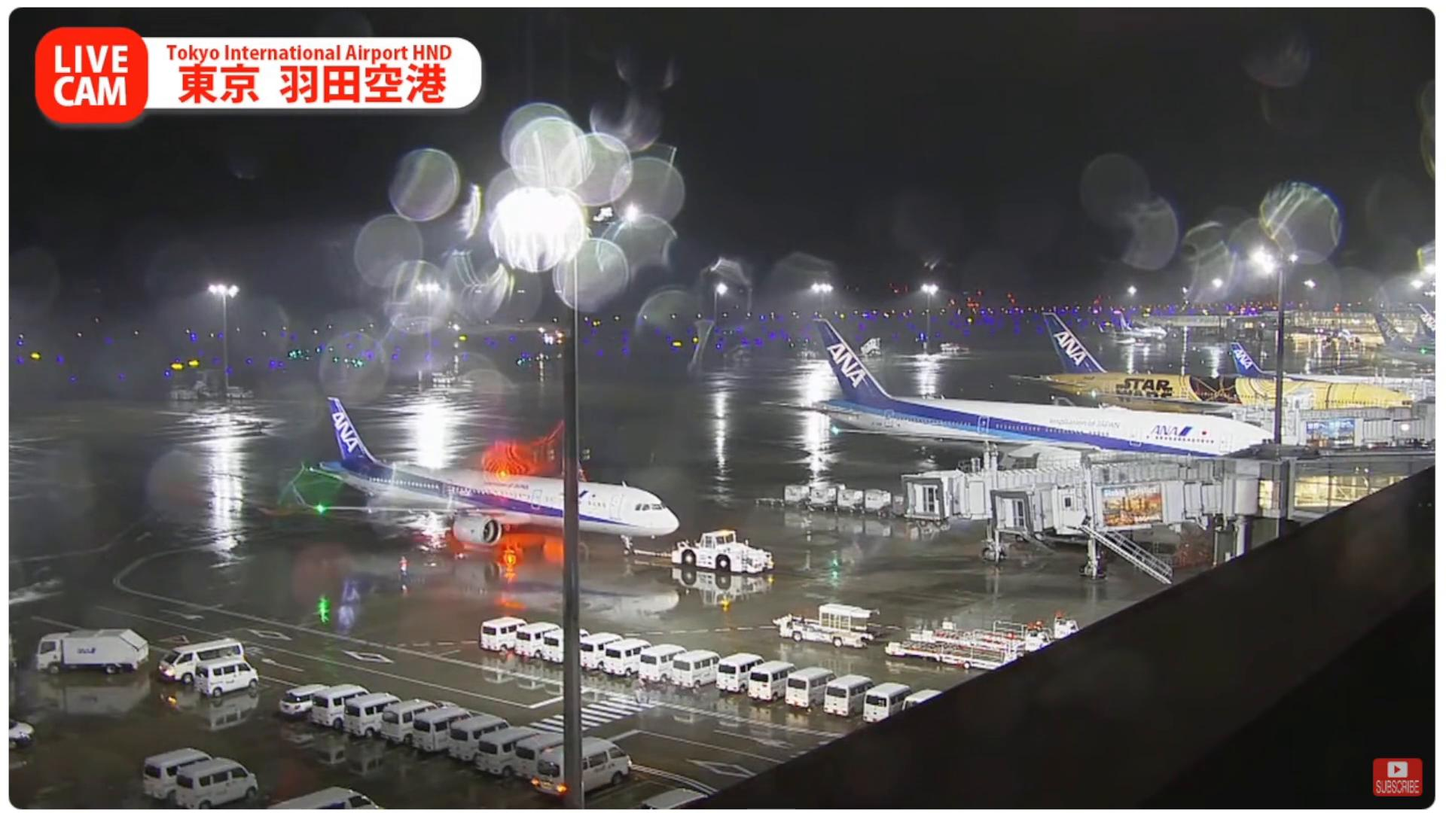APS: (288, 396, 682, 559), (661, 525, 783, 579)
Aerobridge: (898, 461, 1193, 525), (988, 473, 1227, 539)
Baggage truck: (34, 626, 152, 676)
Dolly: (780, 477, 894, 518)
JCPL: (914, 617, 1081, 654), (884, 636, 1033, 667)
Skyloader: (771, 602, 883, 649)
Window: (1289, 476, 1414, 509)
